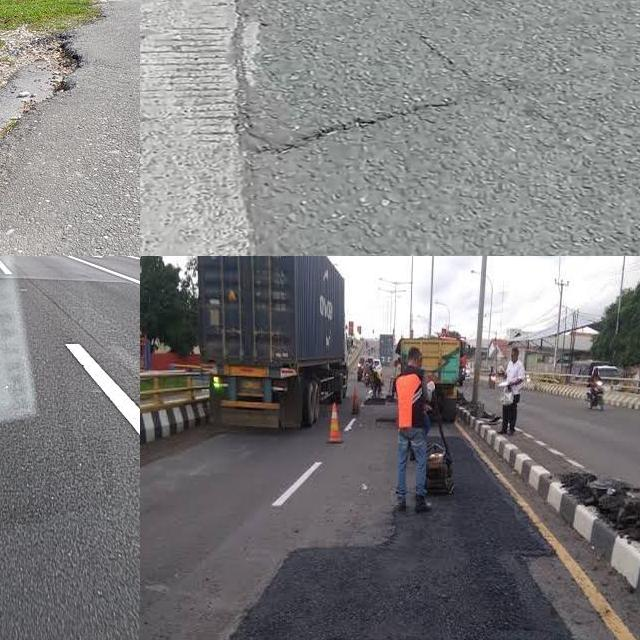Pinggir: (0, 0, 135, 230)
Sambungan: (229, 430, 567, 640), (140, 0, 255, 256)
